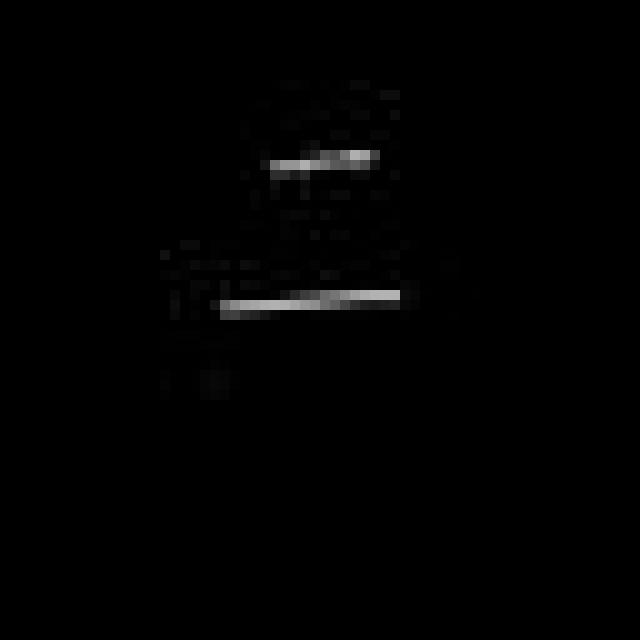2 -two-: (198, 132, 421, 338)
